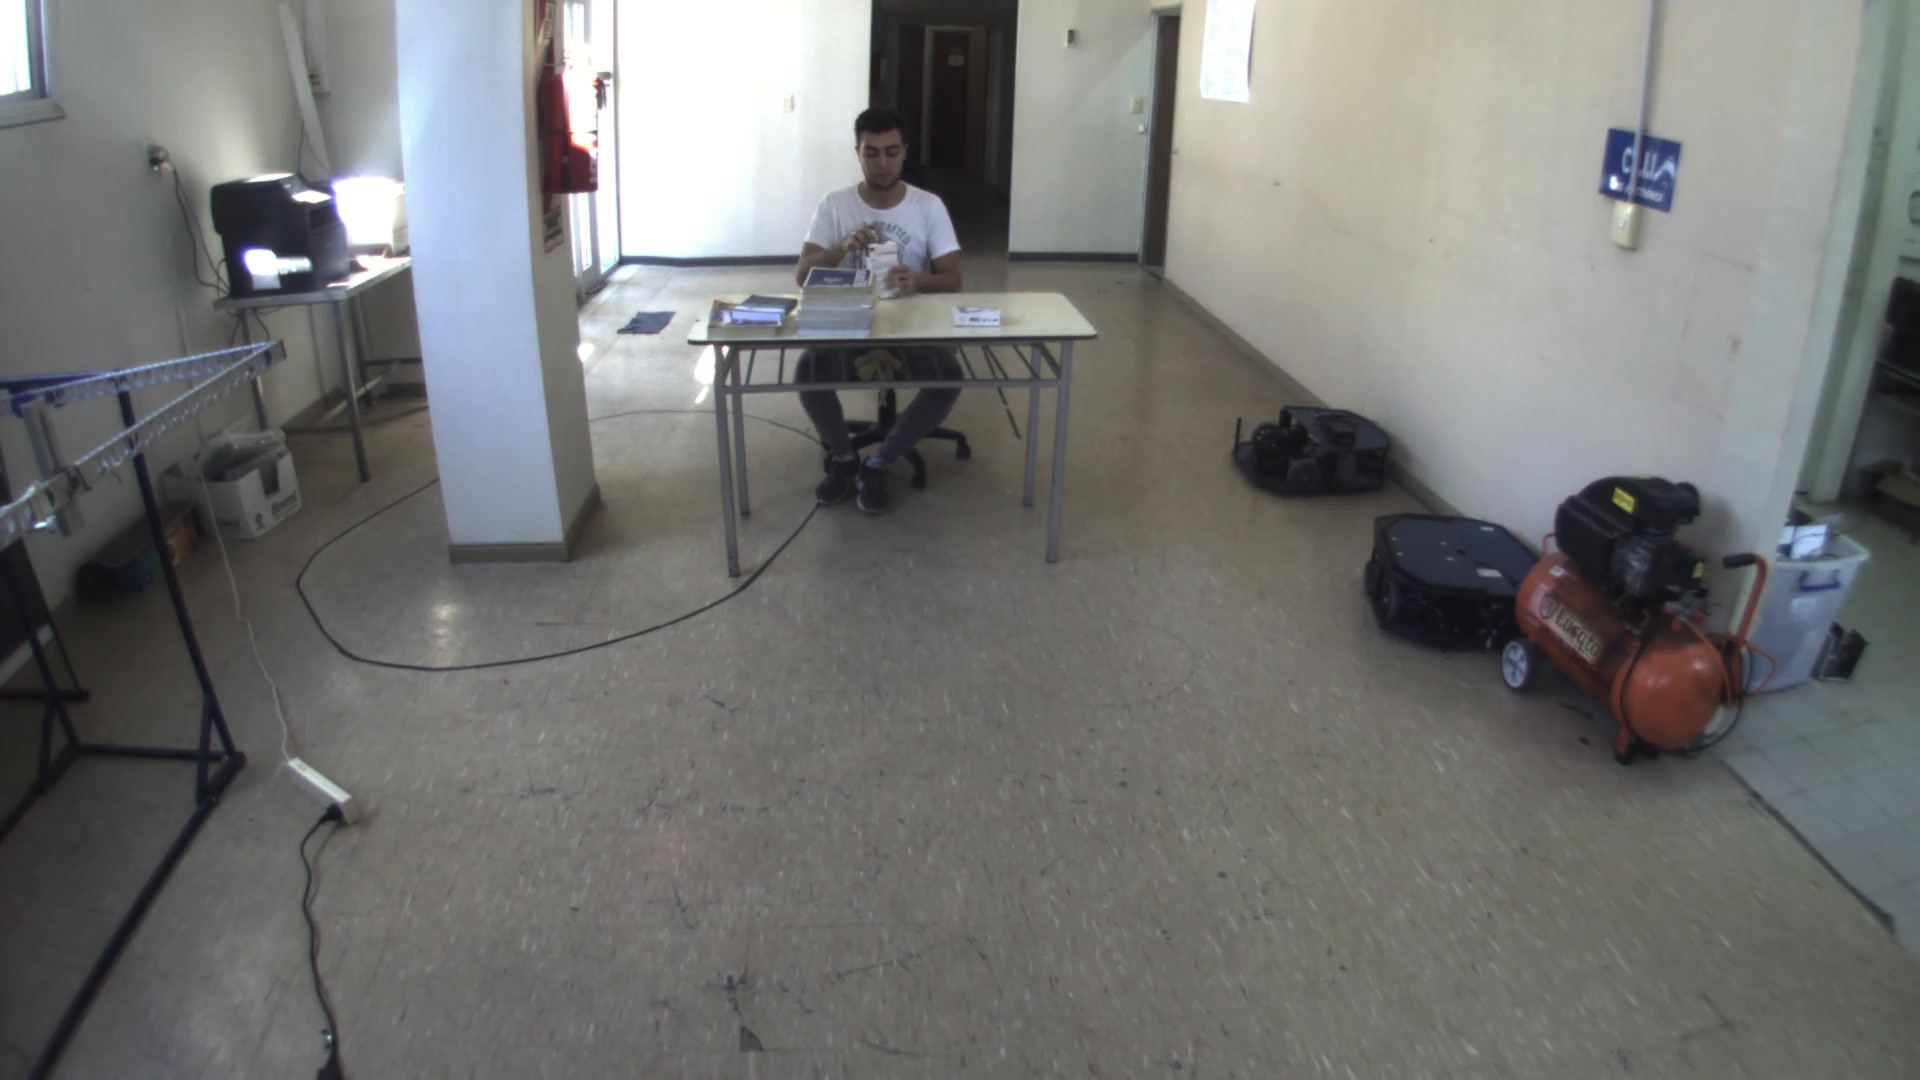hand: (832, 218, 887, 255), (874, 261, 924, 298)
